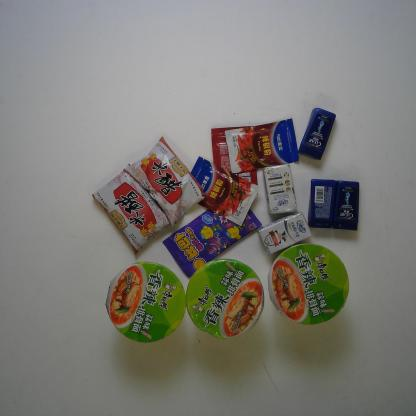Candy: (162, 195, 264, 279)
Instant Noodles: (266, 243, 354, 327), (103, 257, 186, 346), (184, 256, 266, 341)
Milk: (256, 210, 313, 257), (261, 162, 298, 217)
Personal Hygiene: (298, 103, 338, 162), (333, 176, 361, 231), (308, 176, 335, 230)
Seasoner: (123, 135, 209, 228), (90, 162, 172, 257), (182, 155, 263, 228), (223, 117, 302, 175), (206, 124, 263, 190)
